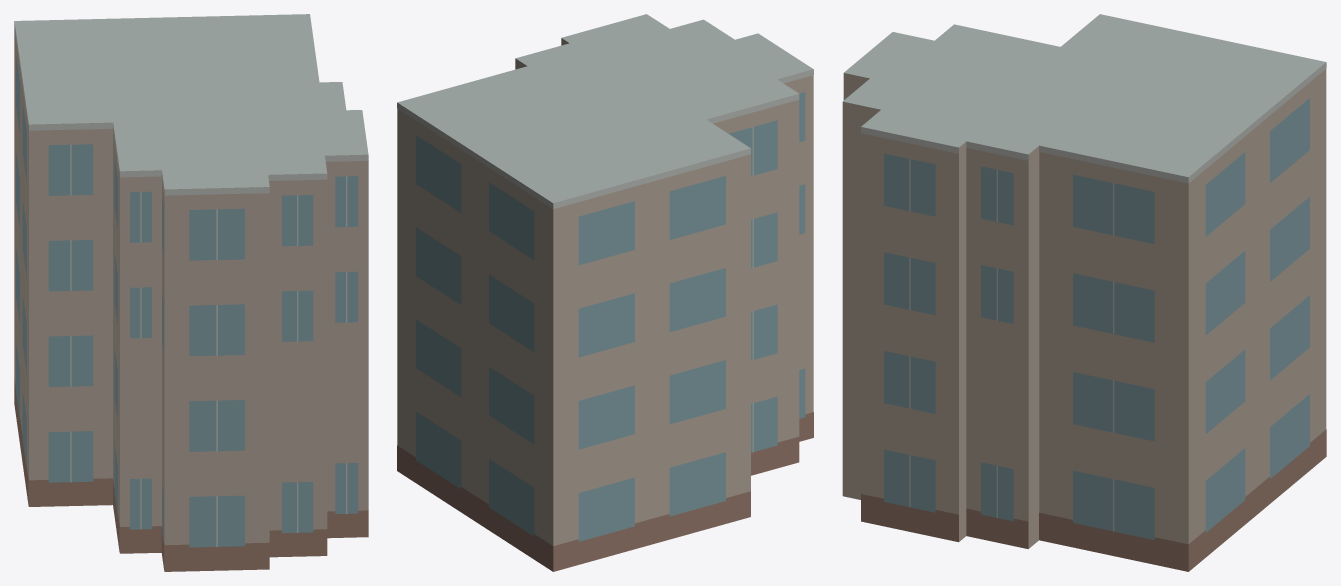
The model's file is survey-upis-32587320.glb.
3 renders of one model, left to right at view 1: azimuth 30°, elevation 25°; view 2: azimuth 150°, elevation 25°; view 3: azimuth 270°, elevation 25°, orthographic. The views are drawn at different scales.
Parts seen in each view (by area): view 1: survey-upis-32587320.tmp; view 2: survey-upis-32587320.tmp; view 3: survey-upis-32587320.tmp.
Part boxes in pixels (bbox=[...]): survey-upis-32587320.tmp: bbox=[14, 14, 368, 571]; survey-upis-32587320.tmp: bbox=[397, 14, 813, 571]; survey-upis-32587320.tmp: bbox=[842, 14, 1326, 571].
Bounding box in the file's own units: 13.49 × 15.2 × 16.9.
